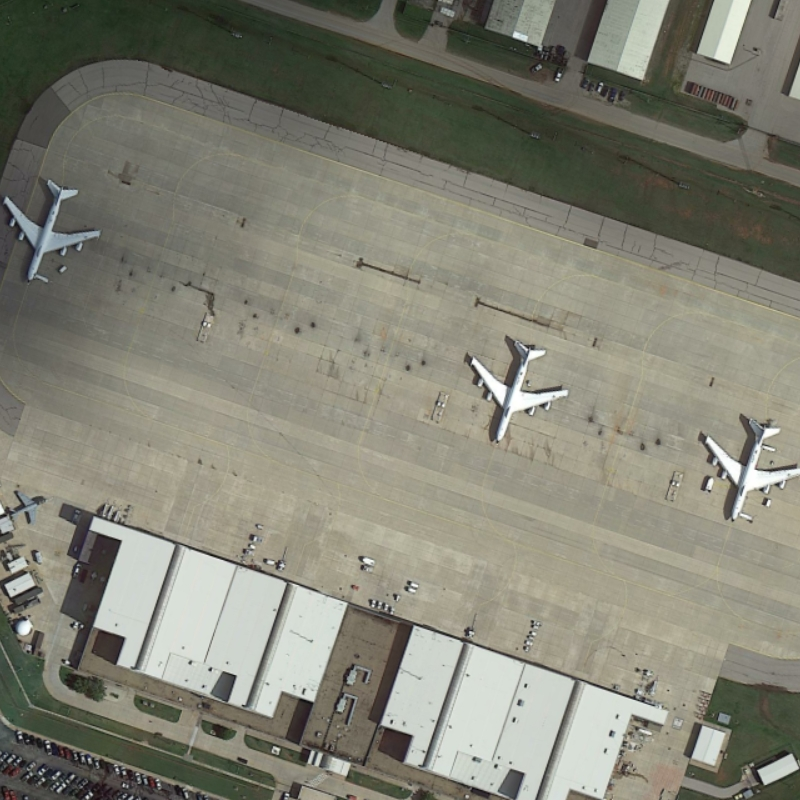A11: (462, 331, 573, 443), (694, 408, 800, 524), (2, 169, 105, 283)
